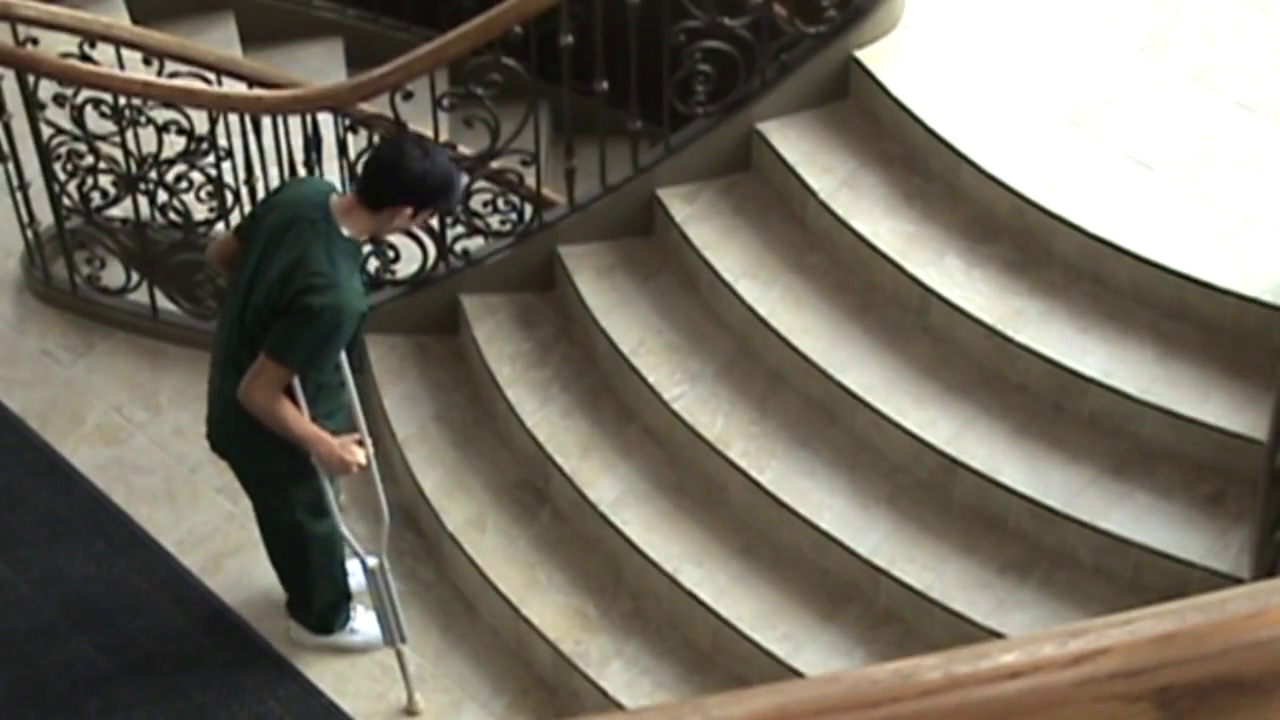person: (206, 132, 458, 652)
